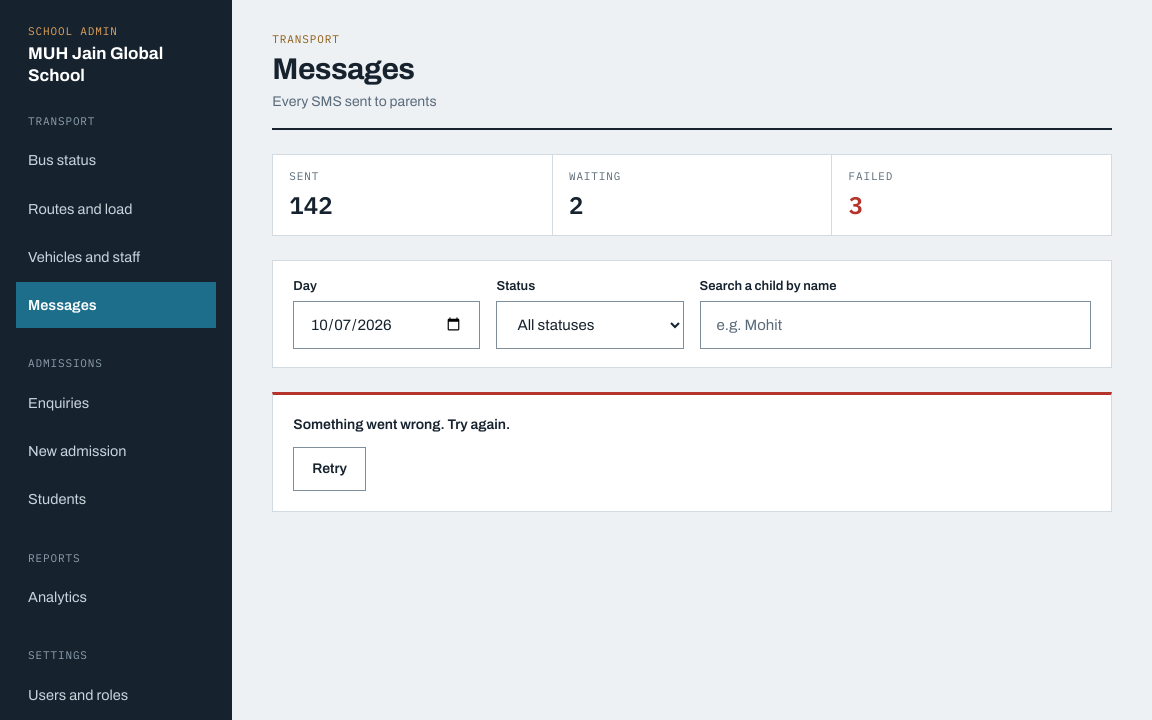
Scenario: Messages page › shows an error with Retry, then the list
The image size is (1152, 720).
Expected: the message shows "Something went wrong", [293,417,510,432]
Click the button "Retry".
click(330, 469)  # box [293,447,366,491]
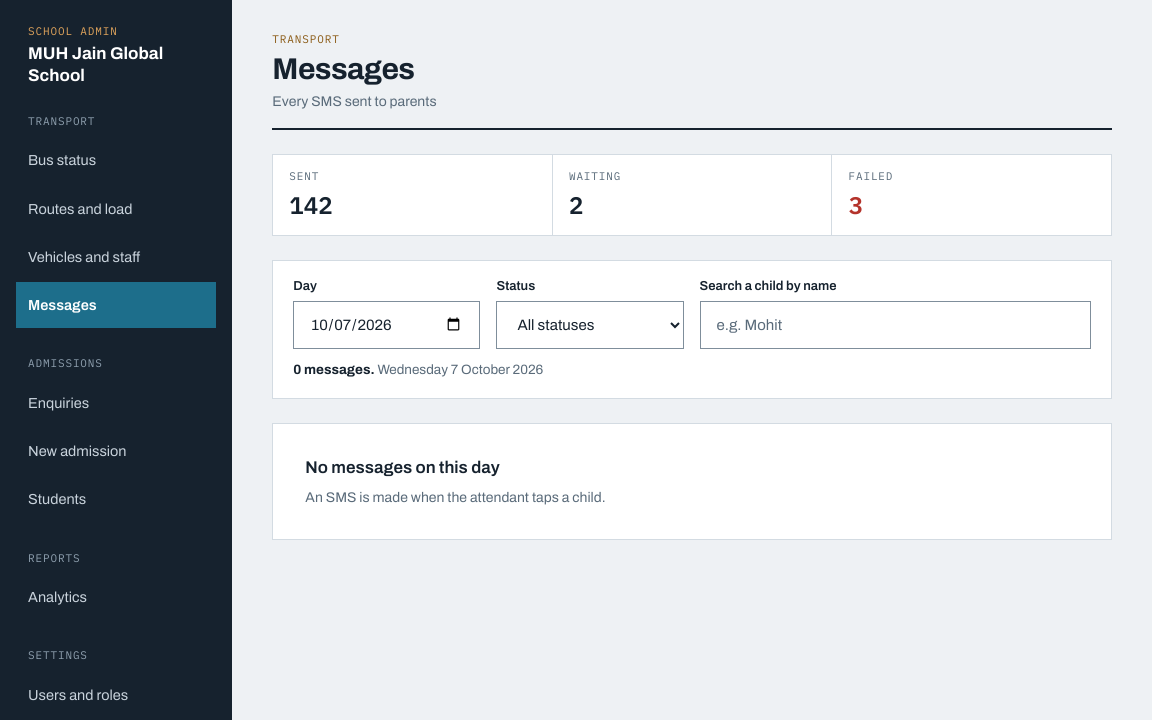
Expected: the text "No messages on this day" is shown, [305,456,500,480]
